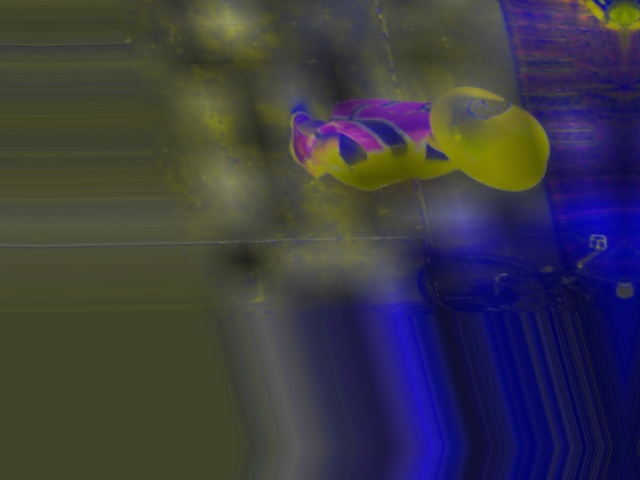two: (465, 96, 514, 117)
